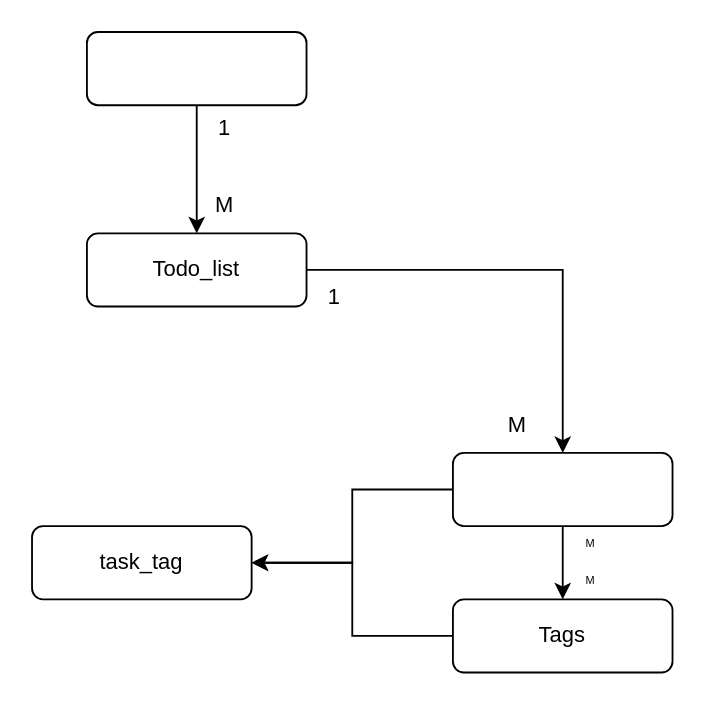
Image size: 705x705. Some labels were removed from this diagram. Here are the shapes that lost their labels. From the top down, the box of each, then its label:
(85, 30, 307, 105): User
(451, 451, 673, 526): Task
